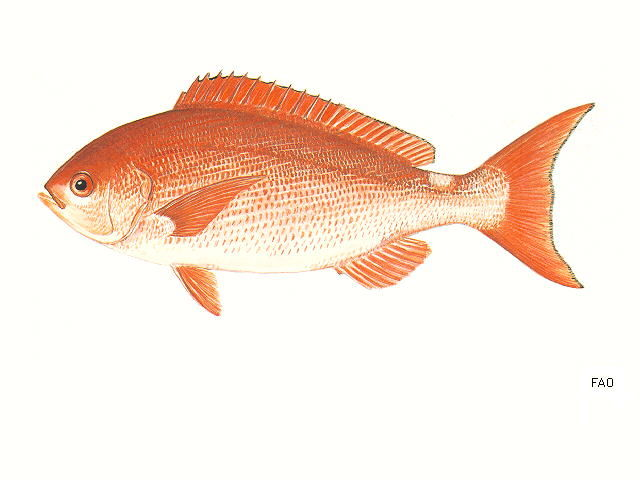fish: (38, 70, 595, 321)
